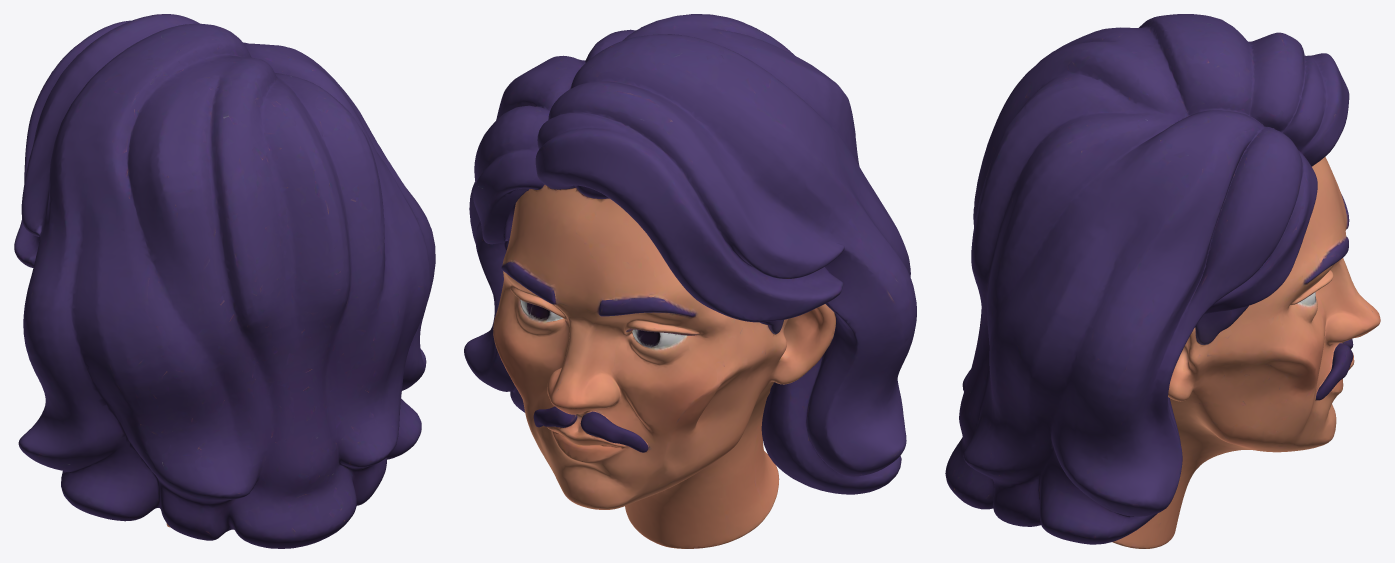
Rendered from sample3.glb.
3 renders of one model, left to right at view 1: azimuth 30°, elevation 25°; view 2: azimuth 150°, elevation 25°; view 3: azimuth 270°, elevation 25°, orthographic. The views are drawn at different scales.
Visible parts, largest first — view 1: world; view 2: world; view 3: world.
Boxes of the visible parts, <box> form: world: <box>14,14,435,548</box>; world: <box>464,14,916,548</box>; world: <box>945,14,1380,548</box>.
Size of the model in its own units: 0.7762 by 0.8746 by 0.6929.
1 material, 1 textured.
